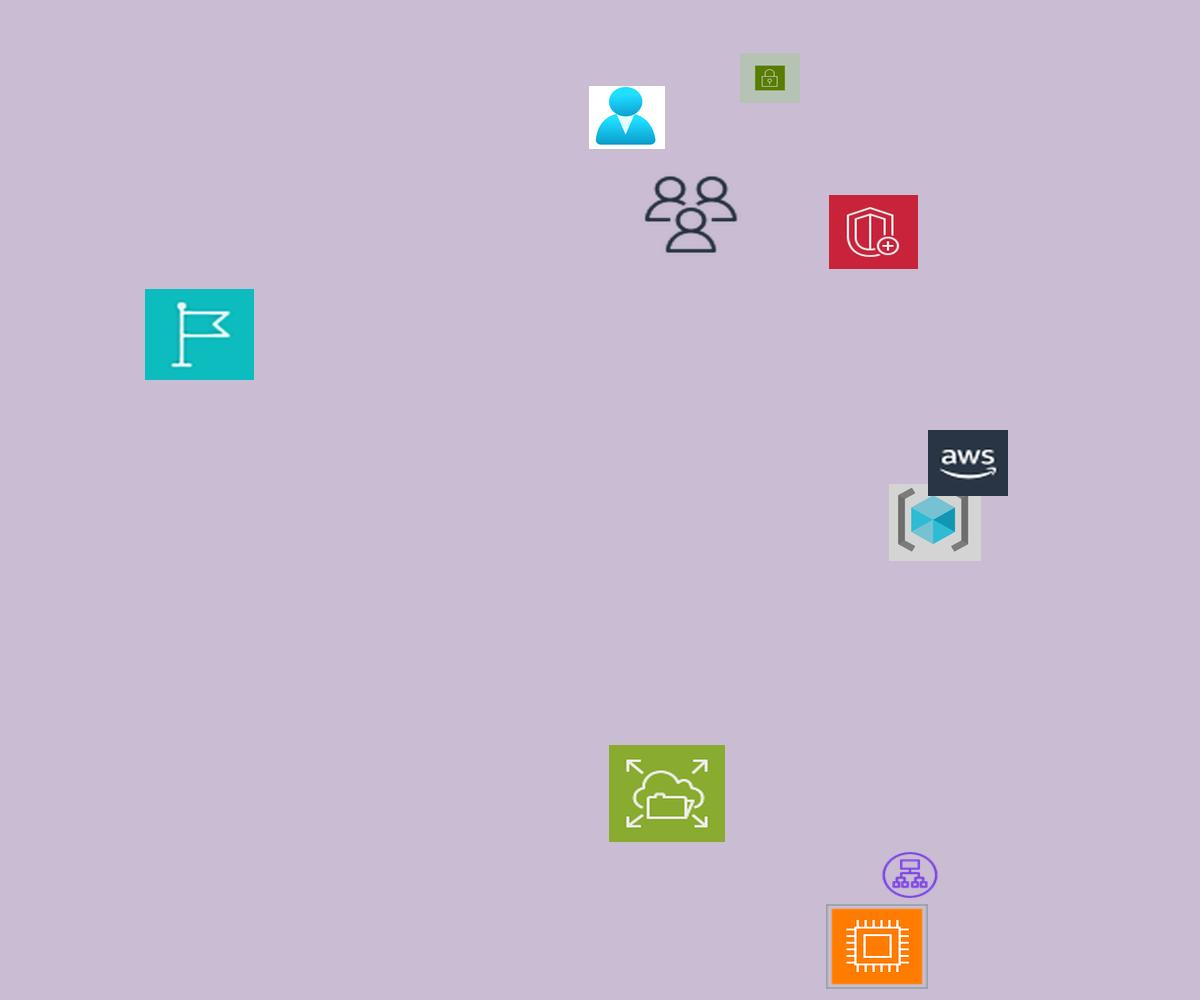AWS-Category_Compute: (826, 904, 928, 989)
AWS-Cloud-logo: (928, 430, 1008, 496)
AWS-EFS: (609, 745, 725, 842)
AWS-Public-subnet: (740, 53, 800, 103)
AWS-Region: (145, 289, 254, 380)
AWS-Res_Elastic-Load-Balancing_Application-Load-Balancer: (880, 850, 940, 900)
AWS-Res_Users: (641, 173, 741, 256)
AWS-Shield: (829, 195, 918, 269)
Azure_resource_group: (889, 484, 981, 561)
Azure_users: (589, 86, 665, 149)
